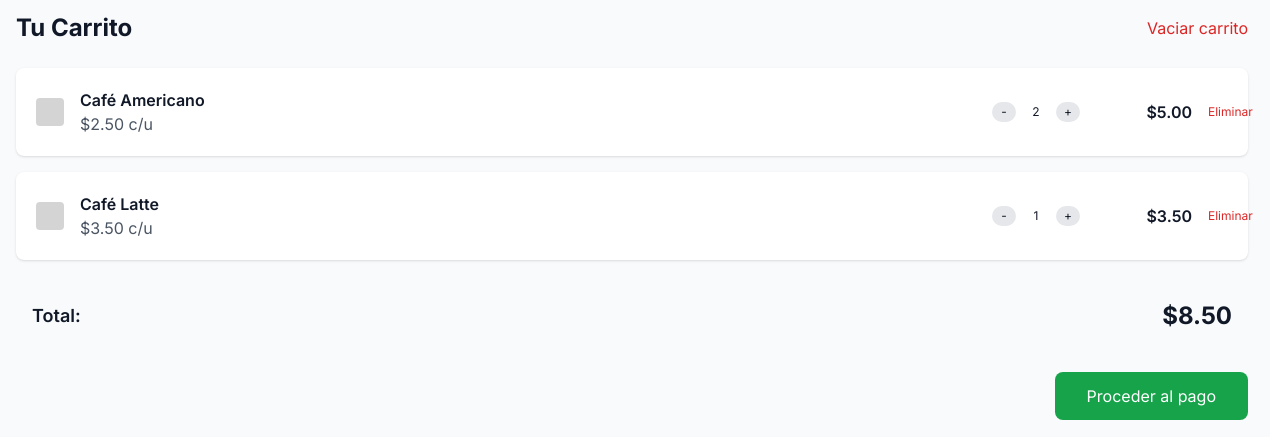
Cart Component › permite limpiar todo el carrito
Step 1. Click the button "Vaciar carrito" → (1198, 28), box [1147,16,1248,40]
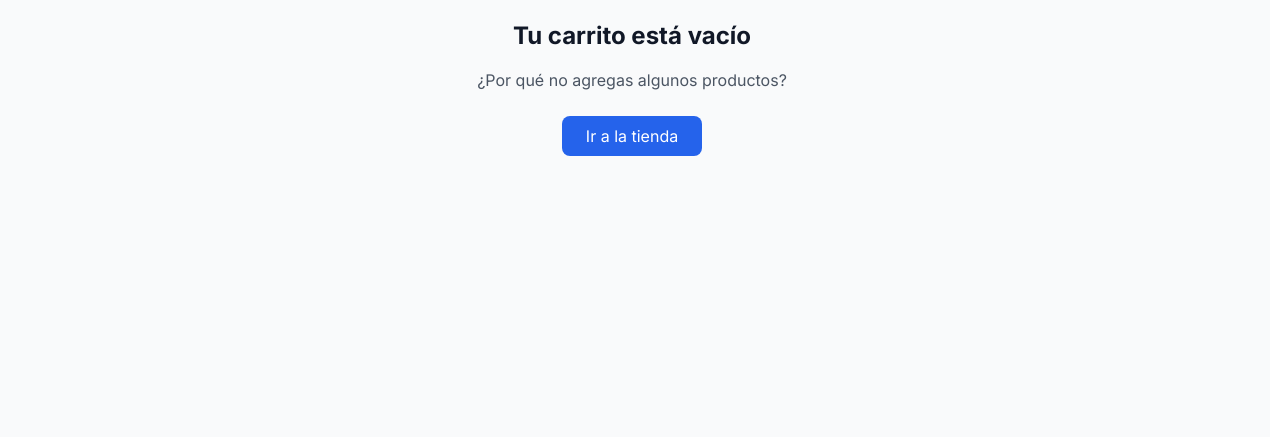
Check: the heading "Tu carrito está vacío" is shown, box [513,20,751,52]
